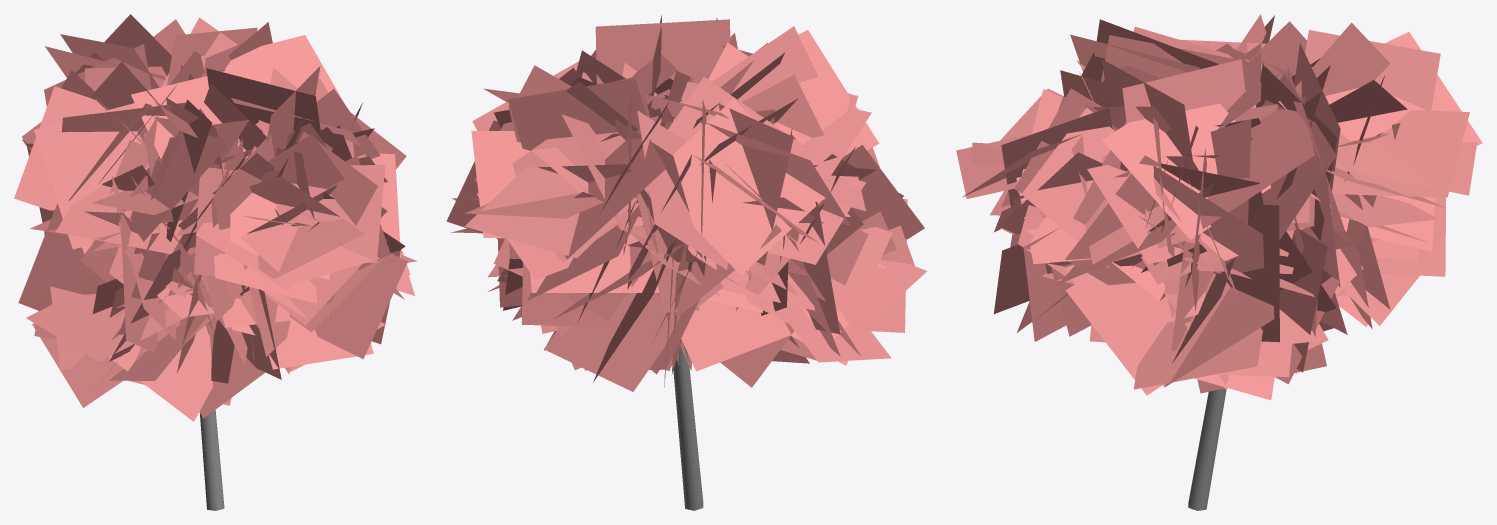
File: SM_tree9.fbx
The picture shows the model from 3 angles, left to right: view 1: azimuth 30°, elevation 25°; view 2: azimuth 150°, elevation 25°; view 3: azimuth 270°, elevation 25°; orthographic projection. The views are drawn at different scales.
Visible parts, largest first — view 1: SM_tree9; view 2: SM_tree9; view 3: SM_tree9.
Part boxes in pixels (box(x1,y1,x2,y2)): SM_tree9: box(14, 14, 417, 510); SM_tree9: box(446, 15, 927, 510); SM_tree9: box(956, 14, 1482, 510).
Size of the model in its own units: 619 by 695 by 694.
